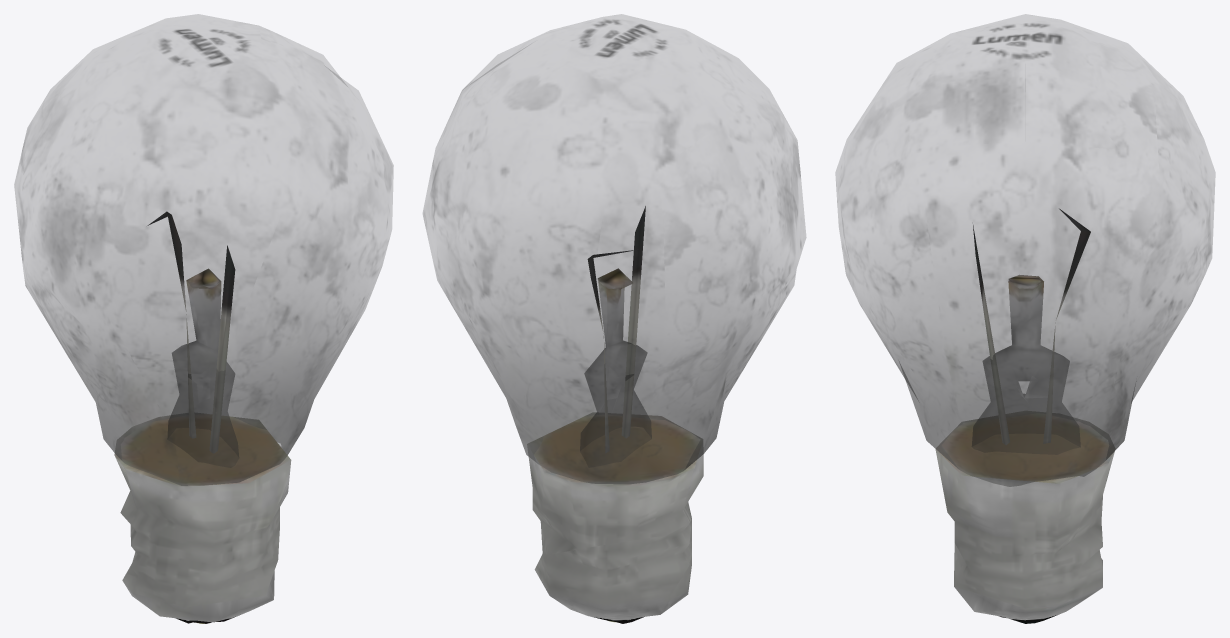
File: lightbulb_01.glb
3 renders of one model, left to right at view 1: azimuth 30°, elevation 25°; view 2: azimuth 150°, elevation 25°; view 3: azimuth 270°, elevation 25°, orthographic.
Visible parts, largest first — view 1: lightbulb_01; view 2: lightbulb_01; view 3: lightbulb_01.
Boxes of the visible parts, x1,y1,x2,y2 form: lightbulb_01: [14, 14, 393, 623]; lightbulb_01: [423, 14, 805, 623]; lightbulb_01: [836, 14, 1214, 623].
Bounding box in the file's own units: 0.0582 × 0.0991 × 0.0588.
Materials: 2 (2 with a texture image).
